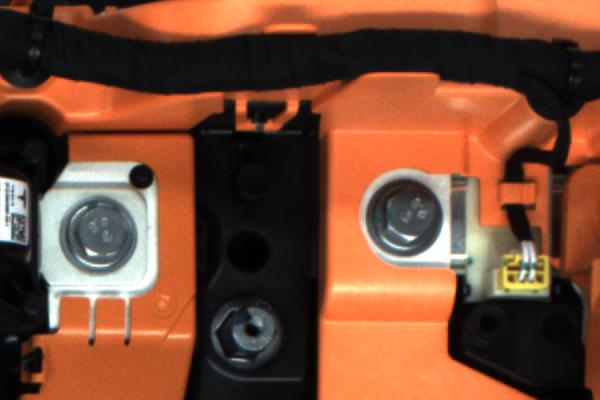nut_b: (353, 173, 450, 261), (55, 194, 143, 280)
